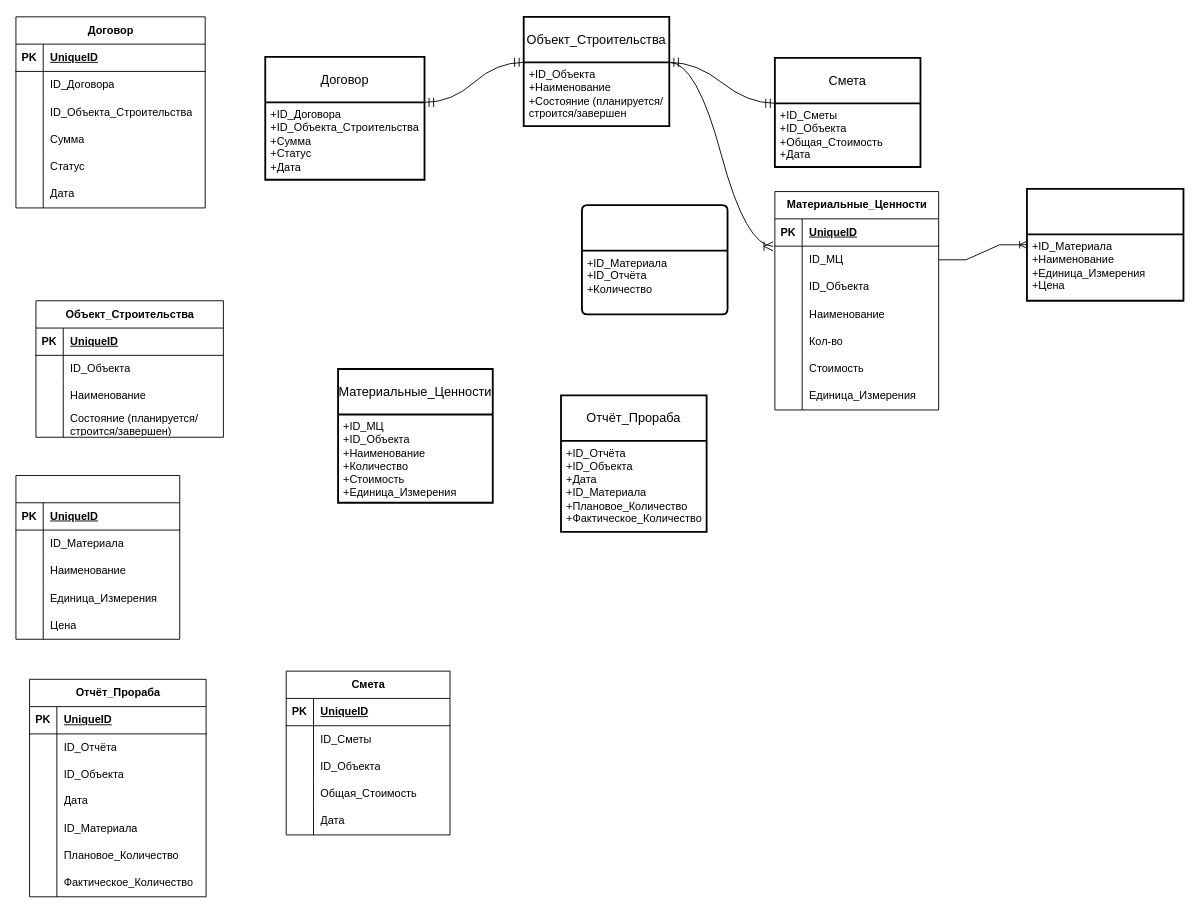
Some shapes in this 1200 by 913 pixel diagram are drawn without their labels. Here are the shapes that lost their labels. From the top down, the box of each, then its label:
(581, 204, 728, 315): Материалы_В_Отчёте
(1026, 187, 1184, 301): Материаы
(15, 475, 180, 639): Материалы
